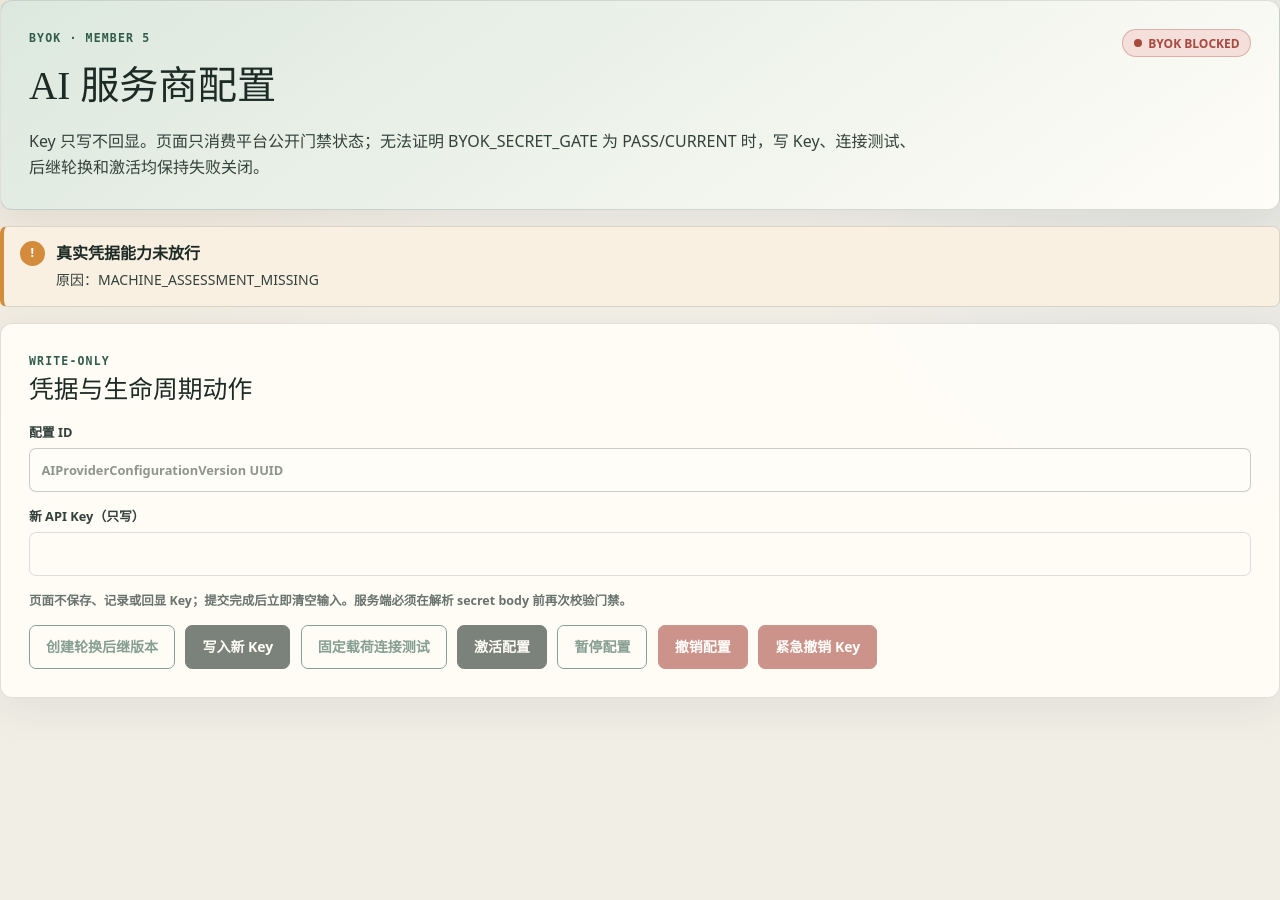
Scenario: member 5 feature mounts › keeps protected BYOK actions disabled when the public gate is not pass/current
Check: the text "BYOK BLOCKED" is shown, box [1122,29,1251,57]
In the field labelled "配置 ID": (640, 470) [29,448,1251,492], type "00000000-0000-4000-8000-000000000531"
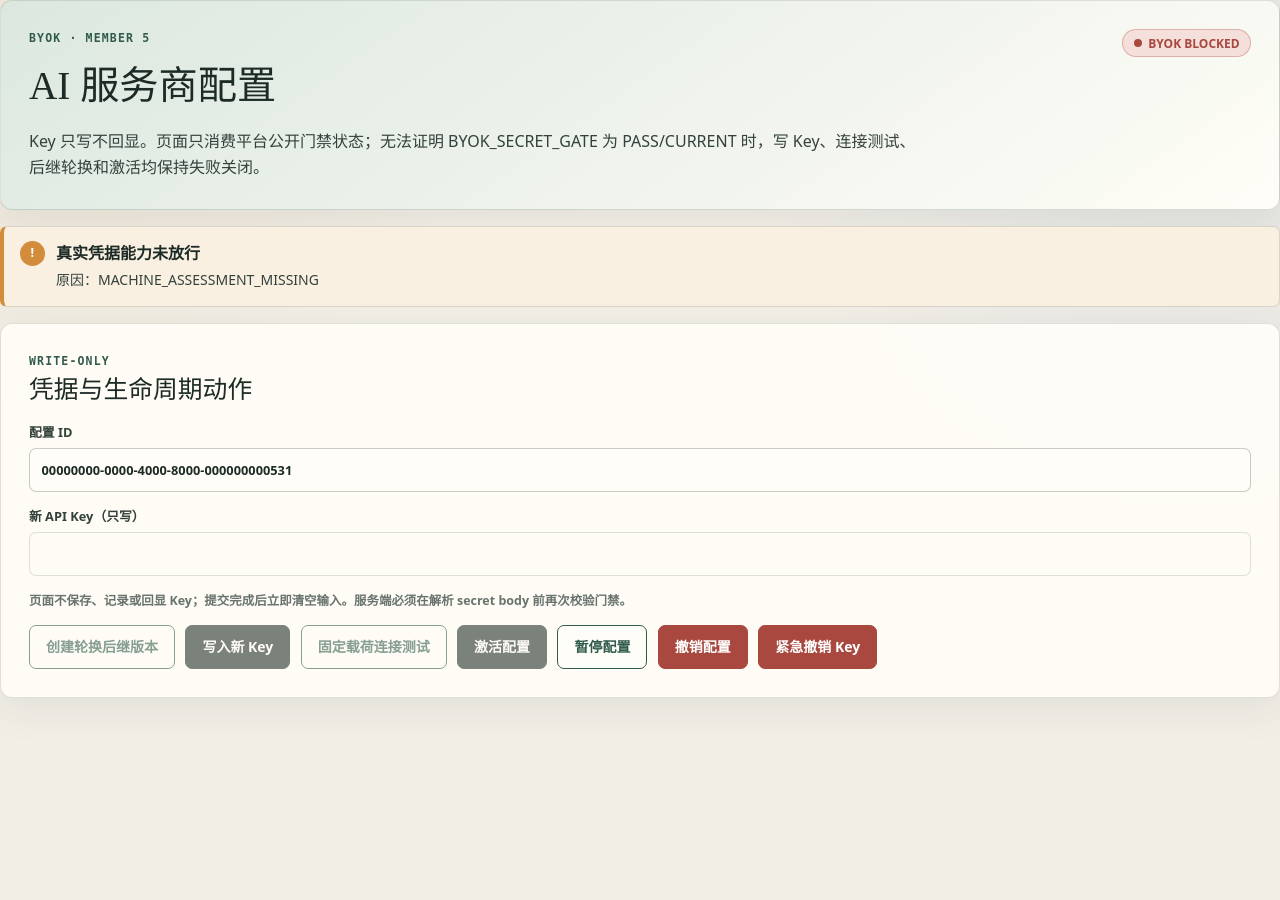
Check: the button "暂停配置" is enabled, box [558,624,648,668]
Check: the button "撤销配置" is enabled, box [658,624,748,668]
Check: the button "紧急撤销 Key" is enabled, box [758,624,877,668]
